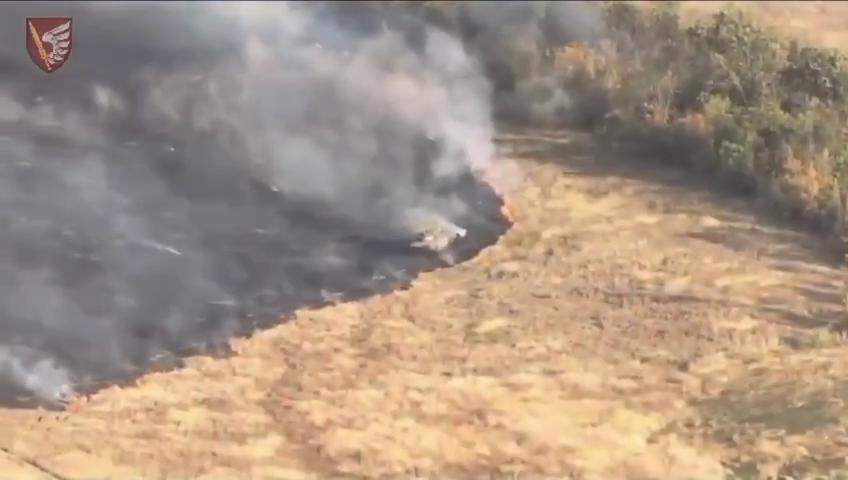tank: (408, 218, 468, 264)
